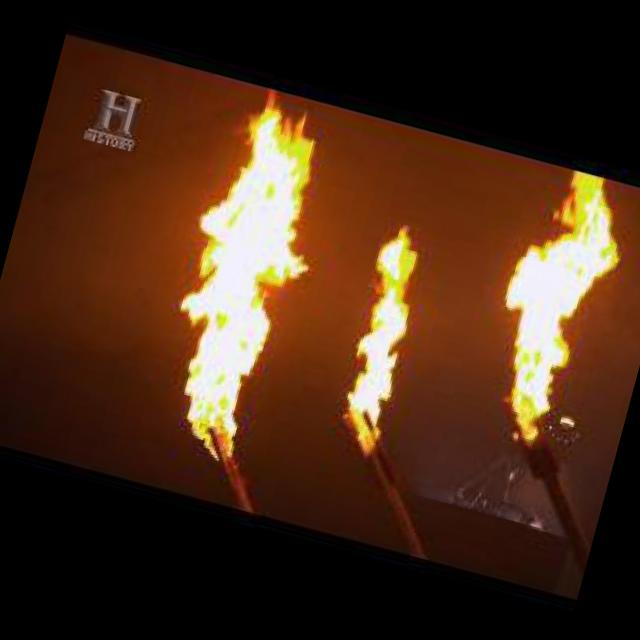fire: (153, 96, 335, 434), (483, 168, 638, 446), (325, 227, 434, 440)
